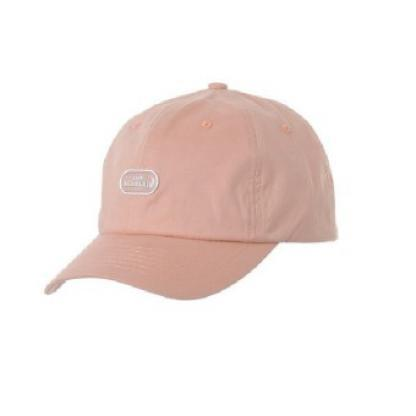cap: (31, 76, 360, 314)
